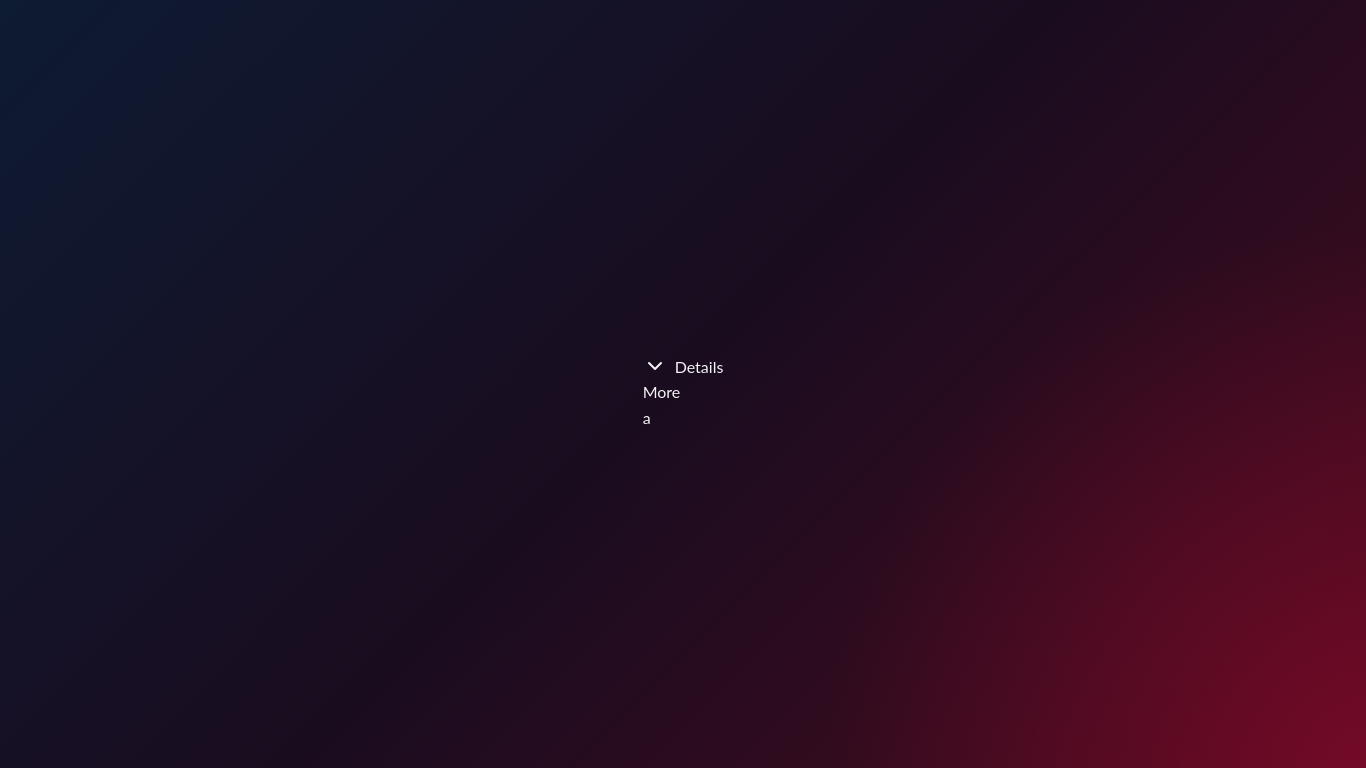
Test: Card v2 › shows a skeleton while loading and expands/collapses
This screenshot has width=1366, height=768.
Click the button "Details" at (683, 366), box [643,354,723,379]
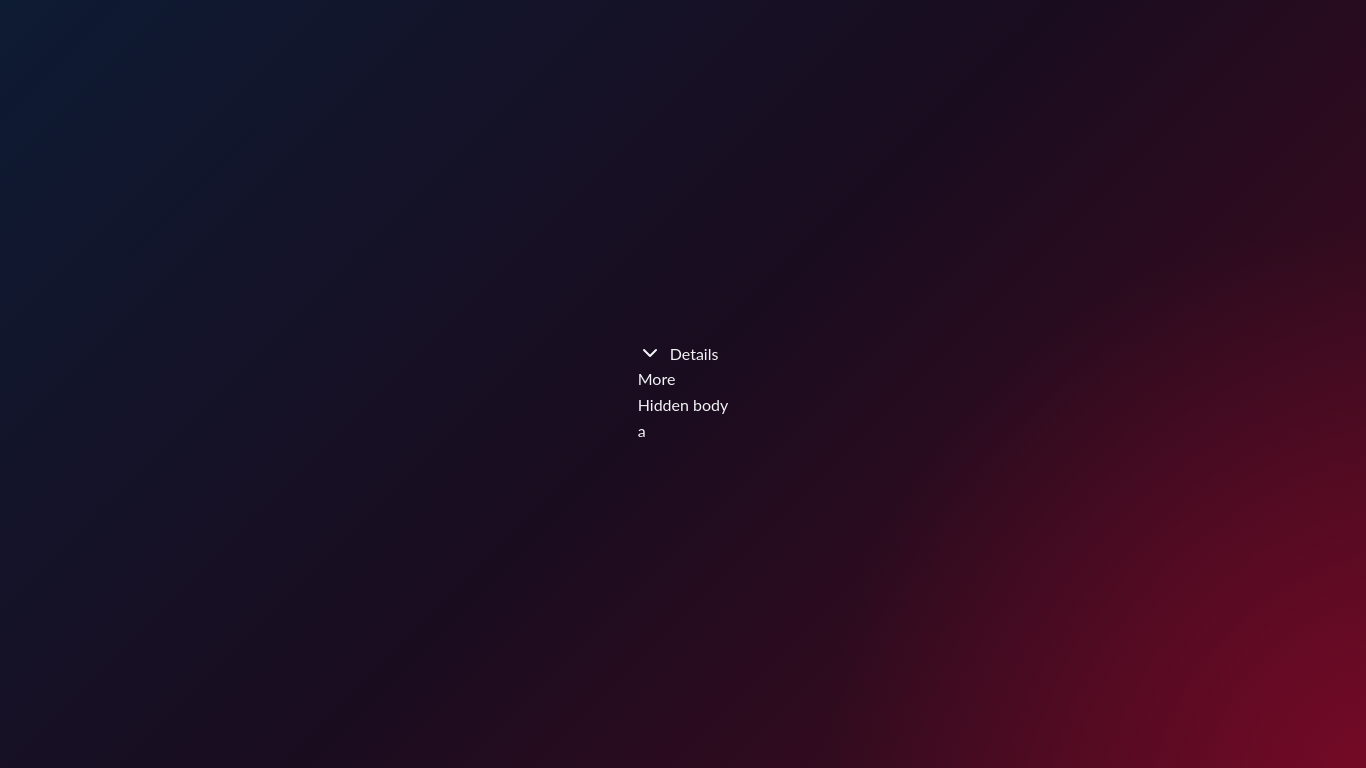
Expected: the button "Details" is expanded, [638,341,728,366]
Expected: the text "Hidden body" is shown, [638,392,728,418]
